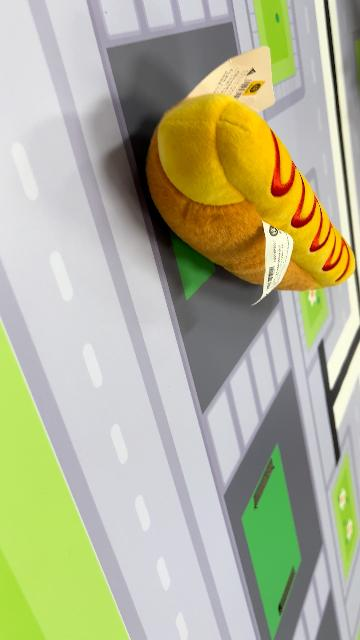hotdog: (145, 91, 356, 296)
